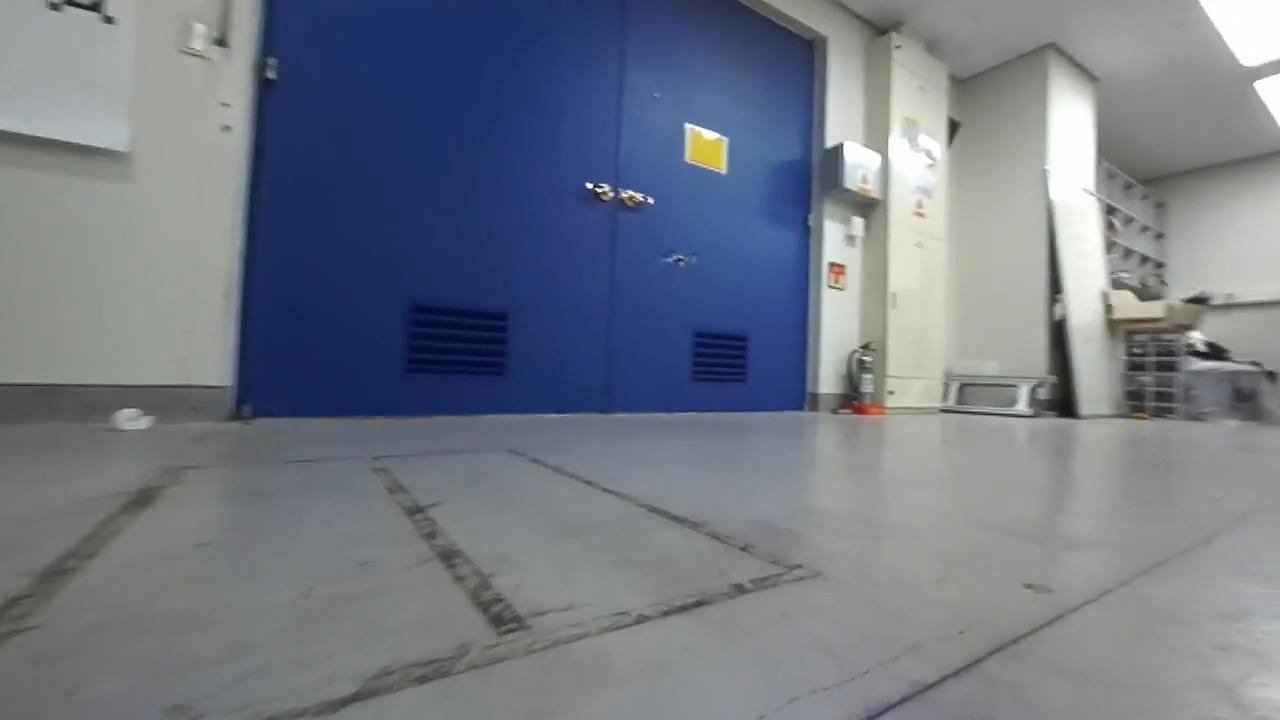crazyflie: (655, 246, 701, 272)
